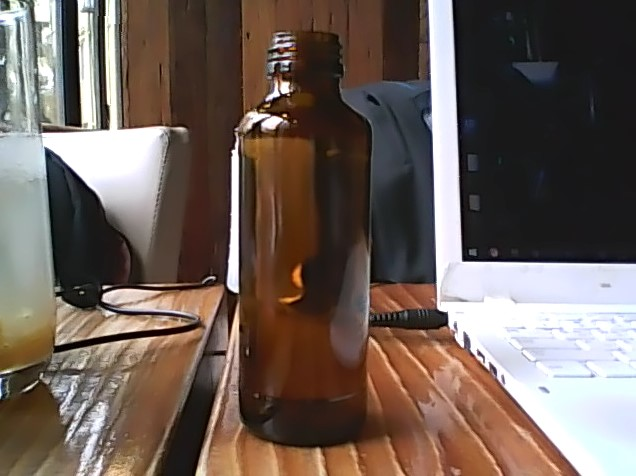Glass: (237, 26, 370, 448)
